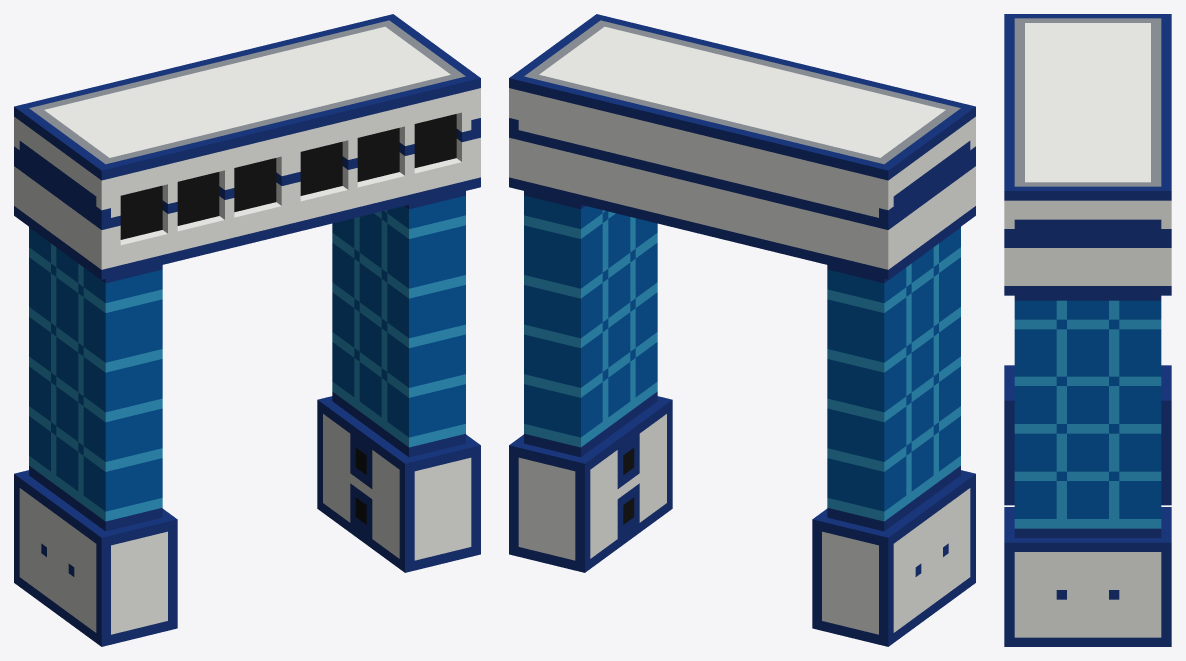
The model's file is coloue_gate_empty.fbx.
3 views of the same model, side by side, from view 1: azimuth 30°, elevation 25°; view 2: azimuth 150°, elevation 25°; view 3: azimuth 270°, elevation 25° (orthographic). The views are drawn at different scales.
Parts seen in each view (by area): view 1: colour gate empty; view 2: colour gate empty; view 3: colour gate empty.
Boxes of the visible parts, x1,y1,x2,y2 form: colour gate empty: [14, 14, 480, 646]; colour gate empty: [509, 14, 975, 646]; colour gate empty: [1004, 14, 1171, 646].
Size of the model in its own units: 4 by 4.8 by 1.6.
Materials: 1 (1 with a texture image).
